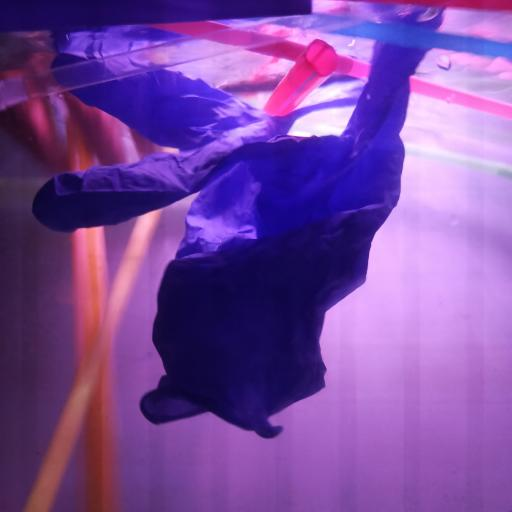glove: (31, 16, 448, 440)
plastic_straw: (15, 206, 162, 512), (2, 0, 405, 110), (145, 20, 512, 120), (62, 108, 119, 512), (252, 13, 512, 62), (263, 36, 337, 114)
